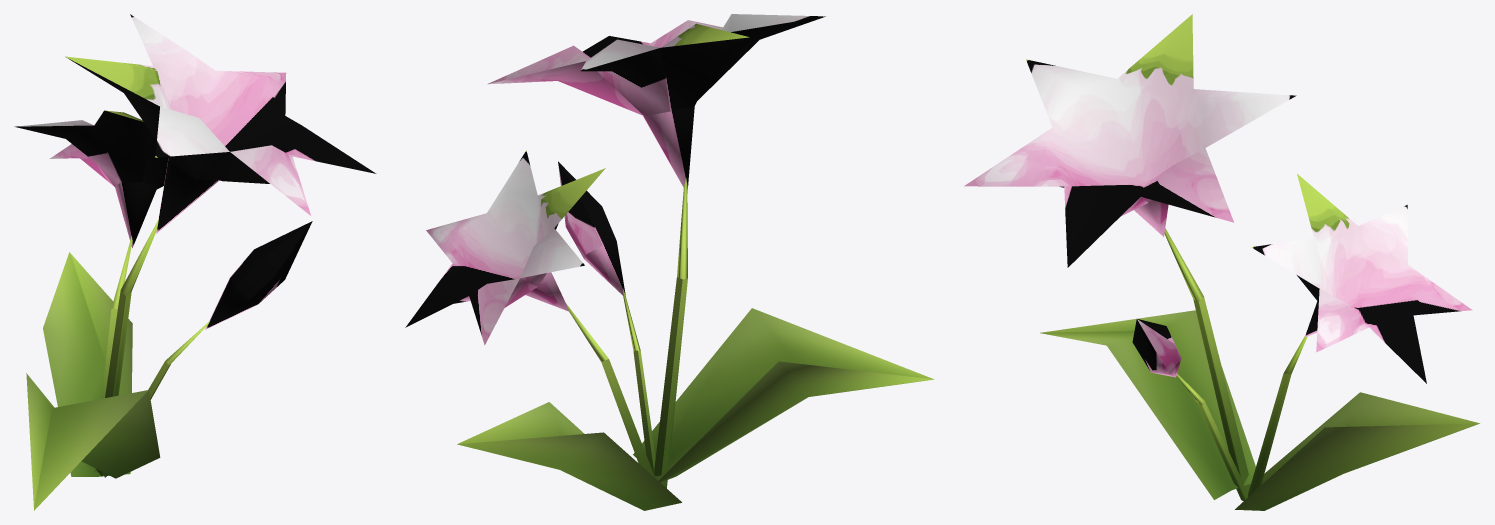
The model's file is Fllower_A.fbx.
The picture shows the model from 3 angles, left to right: view 1: azimuth 30°, elevation 25°; view 2: azimuth 150°, elevation 25°; view 3: azimuth 270°, elevation 25°; orthographic projection.
Parts seen in each view (by area): view 1: Fllower_A; view 2: Fllower_A; view 3: Fllower_A.
Boxes of the visible parts, x1,y1,x2,y2 form: Fllower_A: (14,14,376,510); Fllower_A: (405,14,934,510); Fllower_A: (964,14,1479,510).
Bounding box in the file's own units: 93.57 × 112 × 114.
